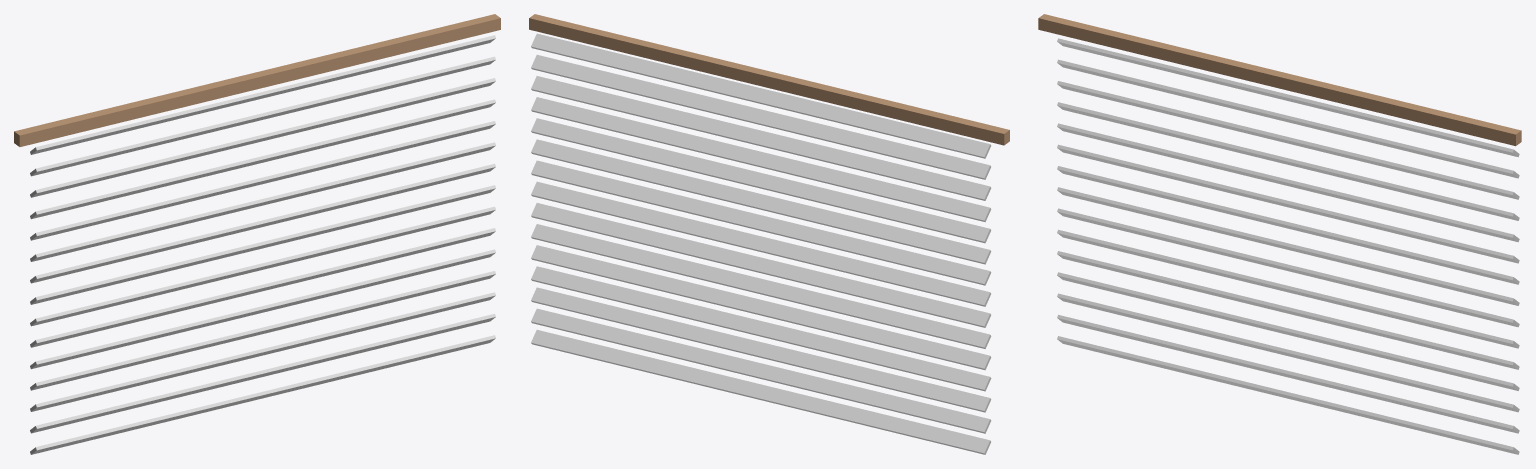
The model's file is Cellular_blind_1.fbx.
3 views of the same model, side by side, from view 1: azimuth 30°, elevation 25°; view 2: azimuth 150°, elevation 25°; view 3: azimuth 330°, elevation 25° (orthographic).
Parts seen in each view (by area): view 1: Cellular_blind_1; view 2: Cellular_blind_1; view 3: Cellular_blind_1.
Part boxes in pixels (<box>): Cellular_blind_1: <box>14,14,500,454</box>; Cellular_blind_1: <box>529,14,1009,454</box>; Cellular_blind_1: <box>1038,14,1521,454</box>.
Size of the model in its own units: 158 by 103 by 4.46.
